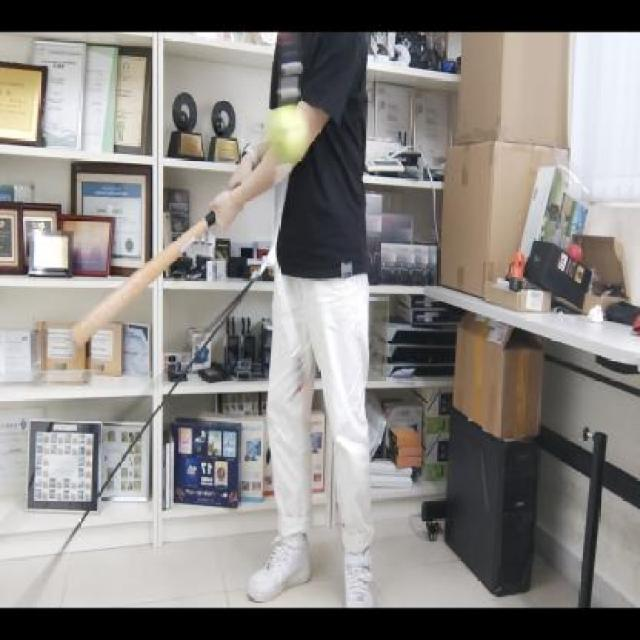baseball: (260, 103, 309, 166)
